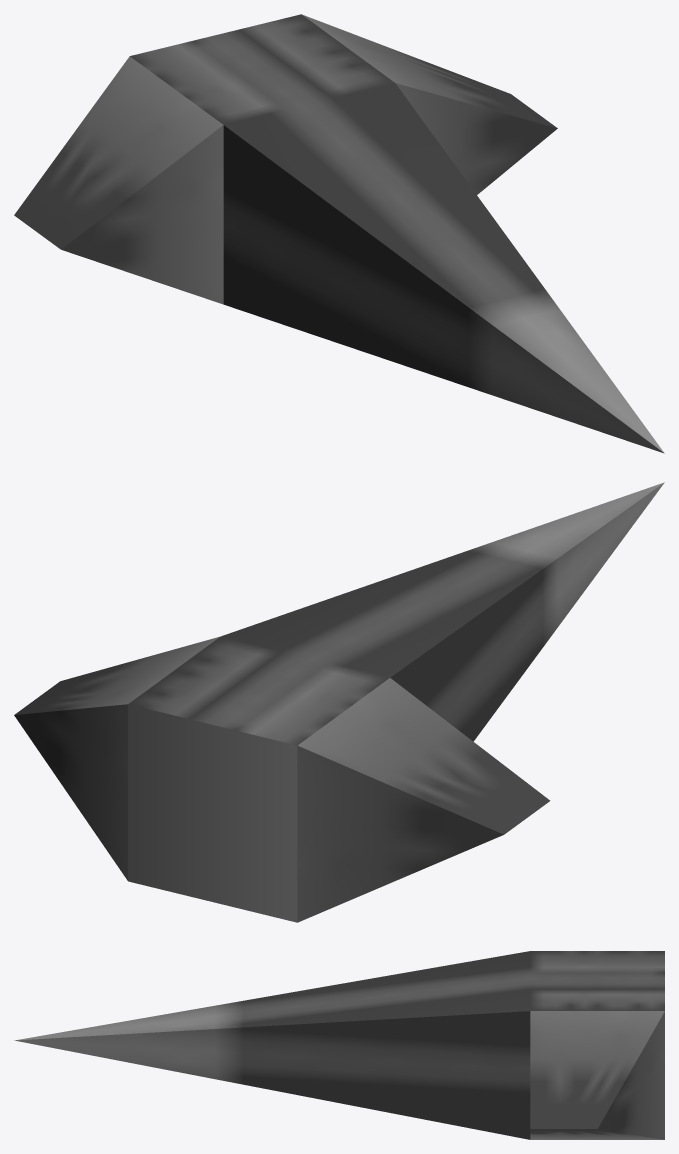
File: rocket-hyper.glb
3 views of the same model, one above another, from view 1: azimuth 30°, elevation 25°; view 2: azimuth 150°, elevation 25°; view 3: azimuth 270°, elevation 25° (orthographic). The views are drawn at different scales.
Visible parts, largest first — view 1: root; view 2: root; view 3: root.
Boxes of the visible parts, x1,y1,x2,y2 form: root: [14, 14, 664, 453]; root: [14, 482, 664, 922]; root: [14, 951, 664, 1139].
Size of the model in its own units: 0.1074 by 0.0371 by 0.1699.
Materials: 1 (1 with a texture image).
